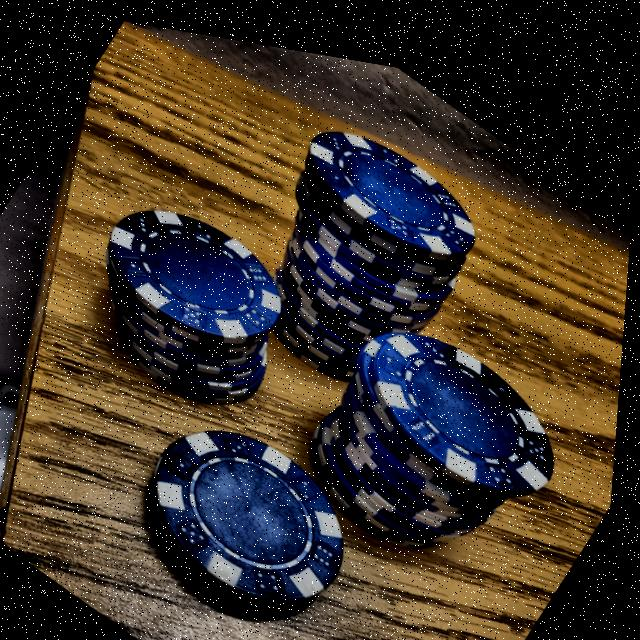Chip: (255, 234, 618, 635), (192, 69, 520, 439), (38, 131, 350, 461), (84, 349, 416, 640)
